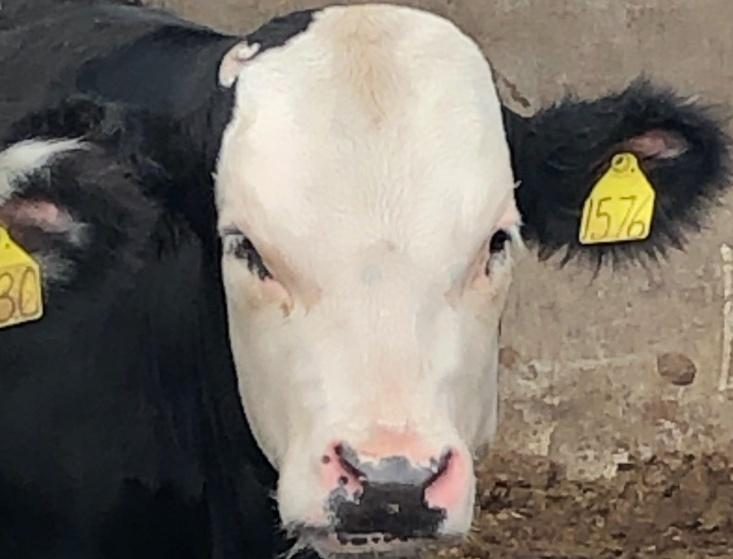muzzles: (273, 420, 486, 553)
